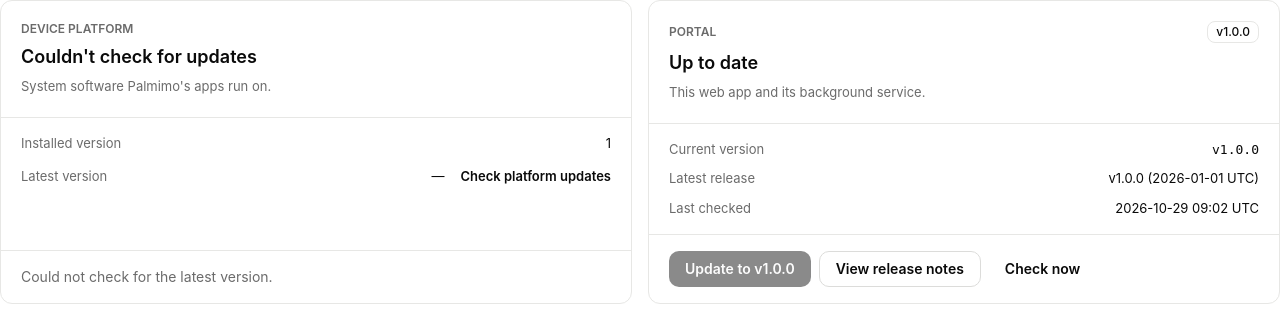
Test case: UpdatePanel › updates the status text from the check mutation's own response, via the real click path
This screenshot has width=1280, height=321.
Check: the text "Up to date" is shown, box x1=669 y1=52 x2=758 y2=73
Click the button "Check now". click: (1043, 269)
box: x1=989 y1=251 x2=1096 y2=287
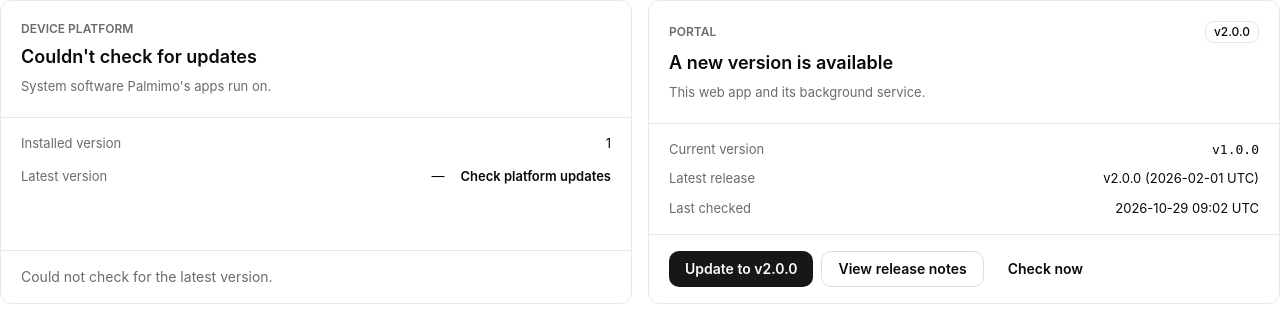
Check: the text "A new version is available" is shown, box x1=669 y1=52 x2=893 y2=73
